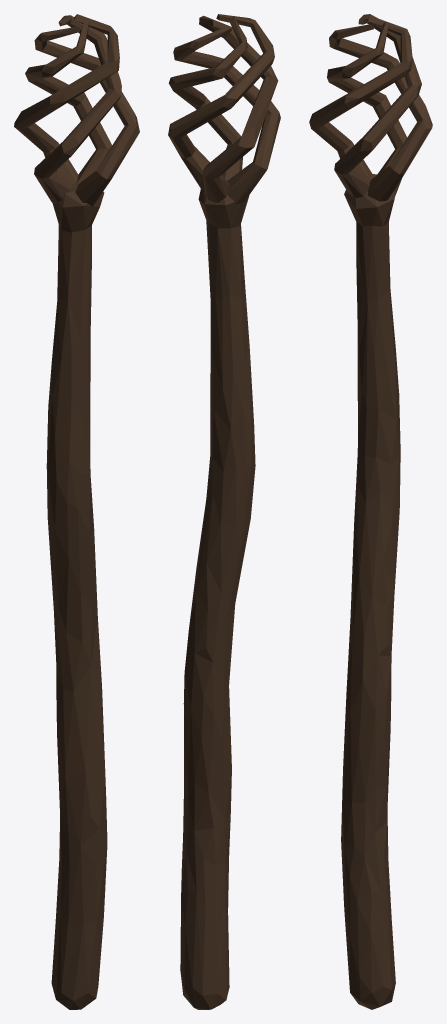
File: GreenBeaconIndicator.fbx
3 views of the same model, side by side, from view 1: azimuth 90°, elevation 25°; view 2: azimuth 210°, elevation 25°; view 3: azimuth 270°, elevation 25° (orthographic).
Parts seen in each view (by area): view 1: Cube.002; view 2: Cube.002; view 3: Cube.002.
Part boxes in pixels (x1,y1,x2,y2): Cube.002: (14, 14, 139, 1009); Cube.002: (168, 14, 280, 1009); Cube.002: (309, 14, 432, 1009).
Bounding box in the file's own units: 31.21 × 285 × 32.59.
